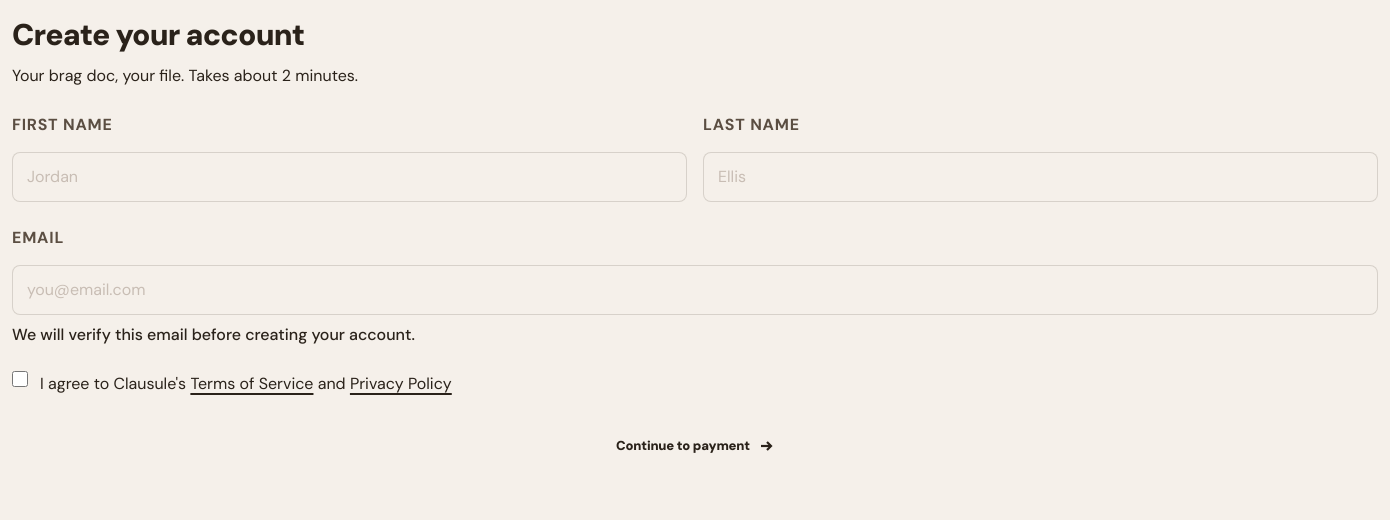
Scenario: SignupStepAccount integration › requires first name, valid email, and terms agreement before continuing
The width and height of the screenshot is (1390, 520).
What coordinates should you click on to do the following:
click the button "Continue to payment"
I would click on:
 (695, 446)
Its box is 12,421 -> 1378,470.
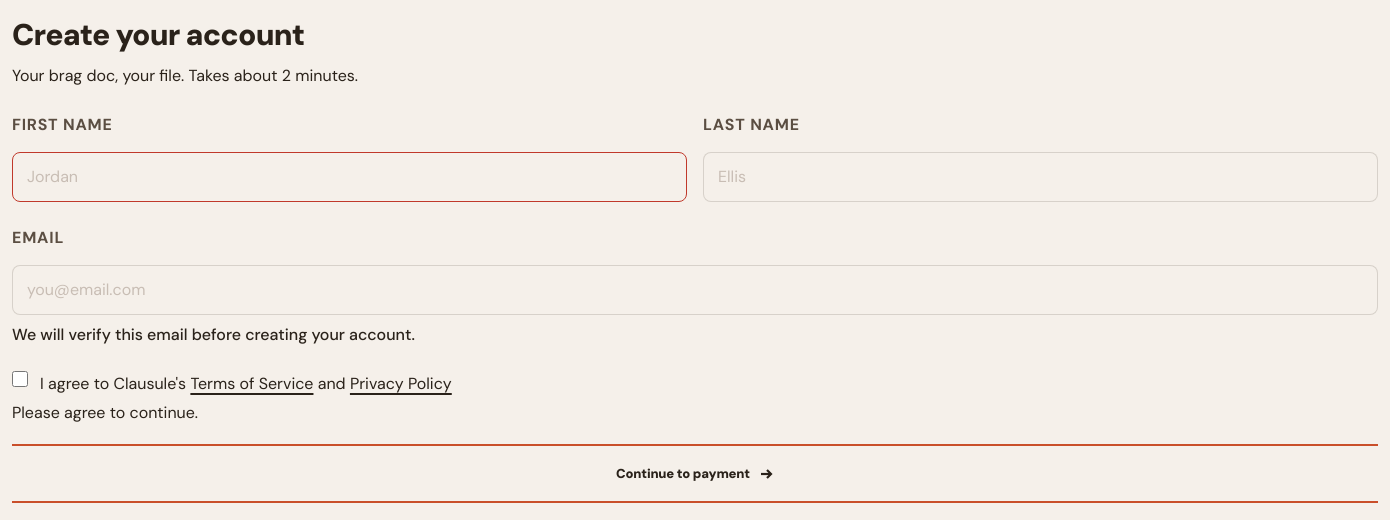
Check: the text "Please agree to continue." is shown, box 12,402 -> 198,423
